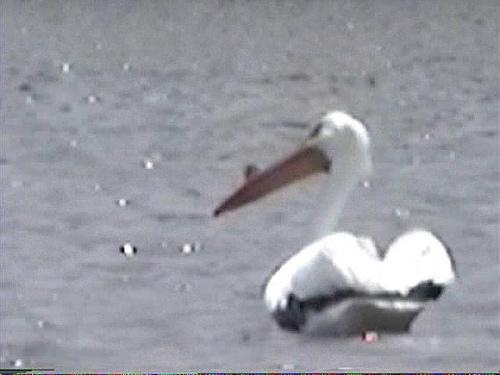bird: (201, 110, 460, 344)
